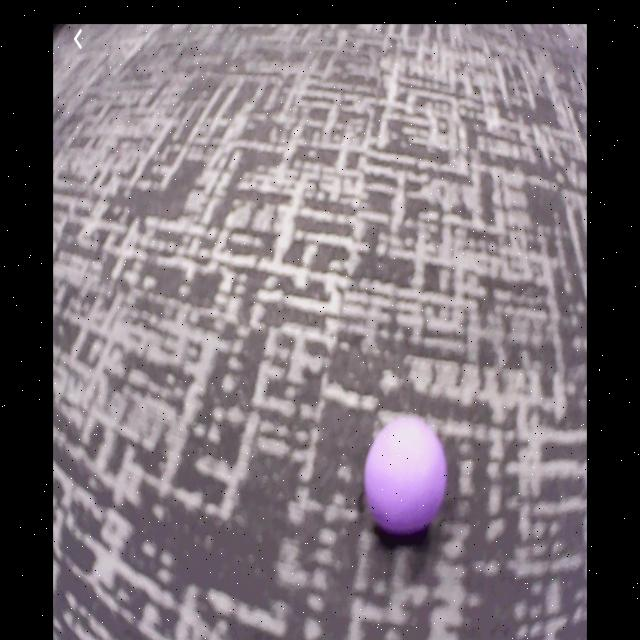ball: (365, 421, 448, 537)
